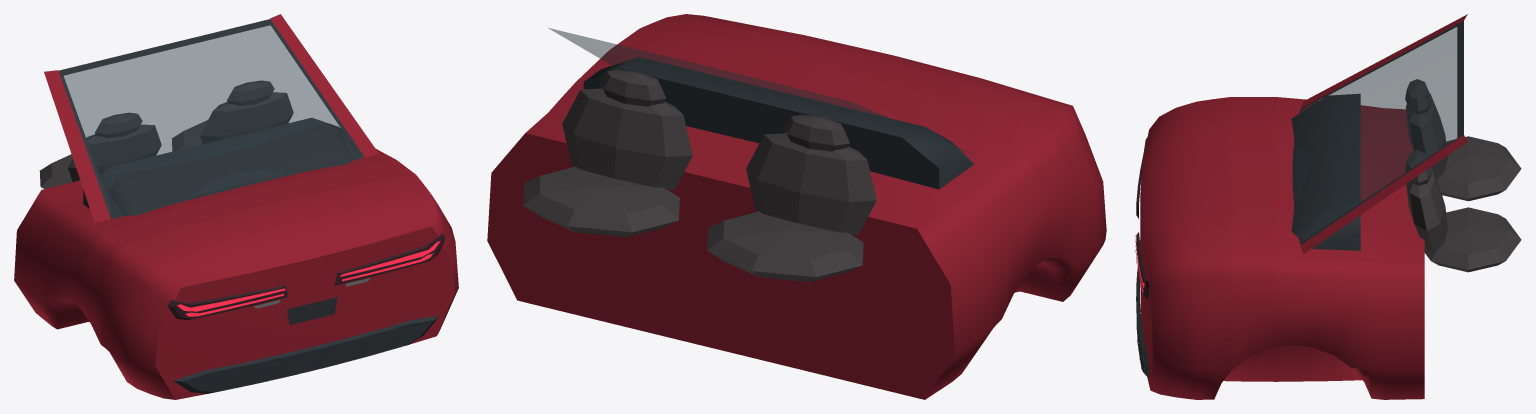
Rendered from rear_lod1.gltf.
The picture shows the model from 3 angles, left to right: view 1: azimuth 30°, elevation 25°; view 2: azimuth 150°, elevation 25°; view 3: azimuth 270°, elevation 25°; orthographic projection. The views are drawn at different scales.
Visible parts, largest first — view 1: RearHatchSolid, RearGlass, RearCabinBulkhead, RearBench, HatchFrame, RearLowerTrim, LampHousingL, LampHousingR, BrakeLensL, BrakeLensR; view 2: RearHatchSolid, RearBench, RearCabinBulkhead, RearGlass; view 3: RearHatchSolid, RearGlass, RearBench, RearCabinBulkhead, HatchFrame, RearLowerTrim, LampHousingR.
Part boxes in pixels (box(x1,y1,x2,y2)): RearHatchSolid: box(14, 148, 458, 399); RearGlass: box(61, 24, 359, 216); RearCabinBulkhead: box(83, 117, 359, 216); RearBench: box(39, 80, 293, 188); HatchFrame: box(44, 14, 378, 222); RearLowerTrim: box(173, 297, 439, 393); LampHousingL: box(167, 285, 288, 320); LampHousingR: box(334, 234, 445, 285); BrakeLensL: box(177, 288, 285, 316); BrakeLensR: box(340, 241, 440, 281); RearHatchSolid: box(487, 14, 1106, 399); RearBench: box(523, 69, 876, 281); RearCabinBulkhead: box(583, 57, 974, 189); RearGlass: box(548, 28, 974, 154); RearHatchSolid: box(1140, 97, 1424, 399); RearGlass: box(1296, 25, 1457, 241); RearBench: box(1405, 79, 1521, 272); RearCabinBulkhead: box(1291, 93, 1360, 250); HatchFrame: box(1292, 14, 1467, 254); RearLowerTrim: box(1136, 265, 1149, 376); LampHousingR: box(1136, 232, 1149, 299).
Size of the model in its own units: 2.35 by 1.46 by 2.11.
